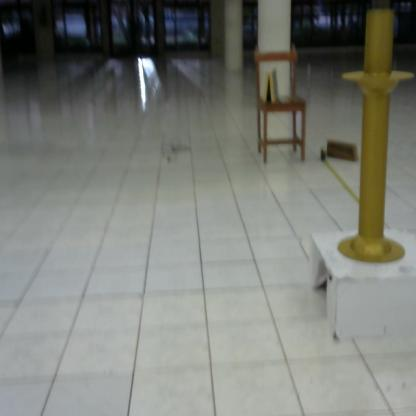pole: (334, 2, 416, 270)
